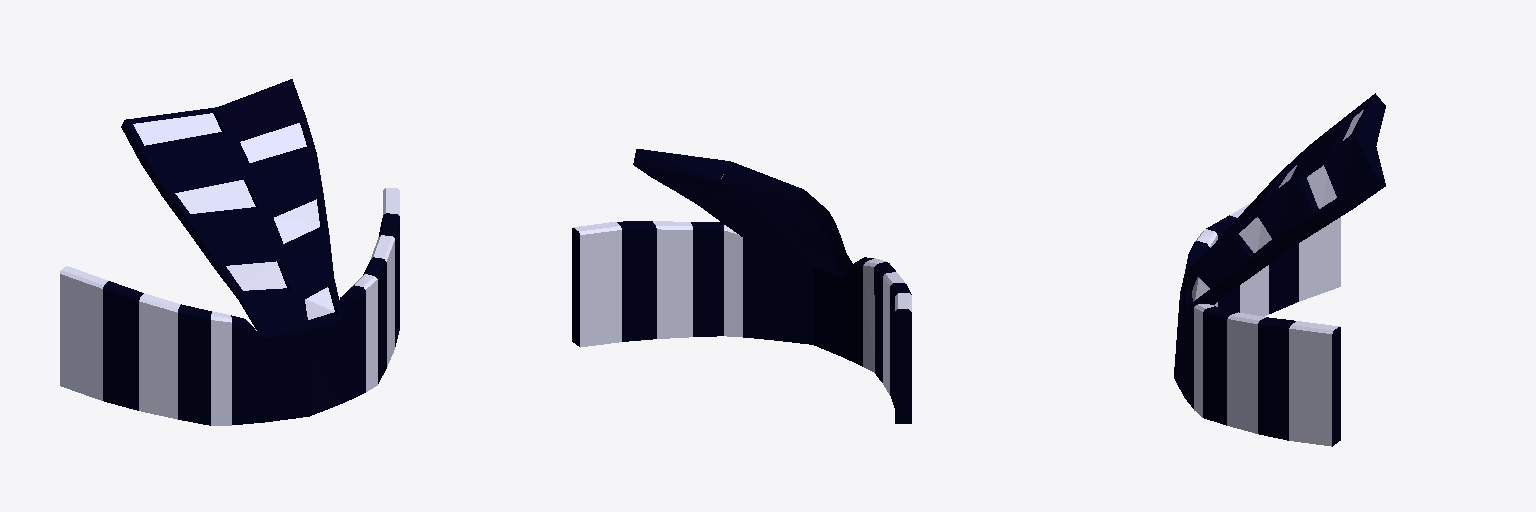
File: Hood5.obj
The picture shows the model from 3 angles: view 1: azimuth 30°, elevation 25°; view 2: azimuth 150°, elevation 25°; view 3: azimuth 270°, elevation 25°; orthographic projection.
Parts seen in each view (by area): view 1: Hood5_Cylinder.002; view 2: Hood5_Cylinder.002; view 3: Hood5_Cylinder.002.
Boxes of the visible parts, box(x1,y1,x2,y2) form: Hood5_Cylinder.002: box(60, 79, 399, 425); Hood5_Cylinder.002: box(572, 149, 911, 423); Hood5_Cylinder.002: box(1174, 93, 1385, 446).
Size of the model in its own units: 6.96 by 4.76 by 3.77.